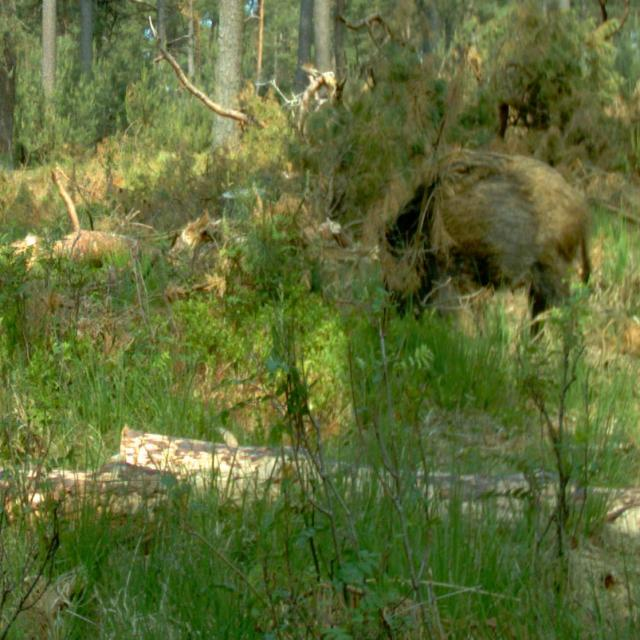pig: (382, 152, 590, 360)
